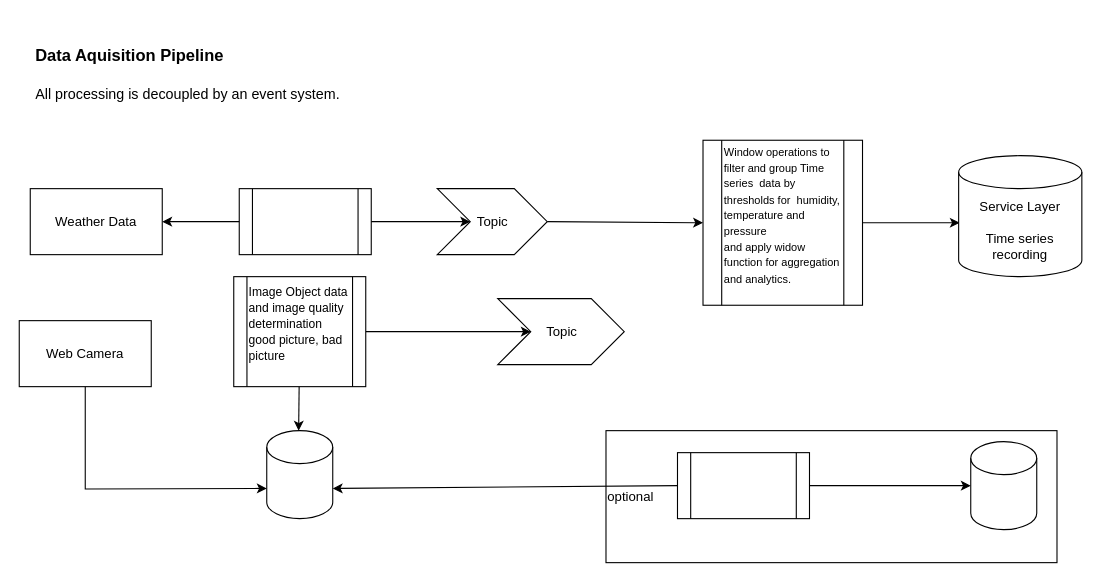
Some shapes in this 1101 by 582 pixel diagram are drawn without their labels. The shapes that lost their labels are listed below. From the top down, each one's centre as x and y in pixels, then its label:
point 304,221: Kafka Producer to write data to topic
point 299,474: File Store
point 742,485: Picture Mover
point 1003,485: Long term Storage (S3)
